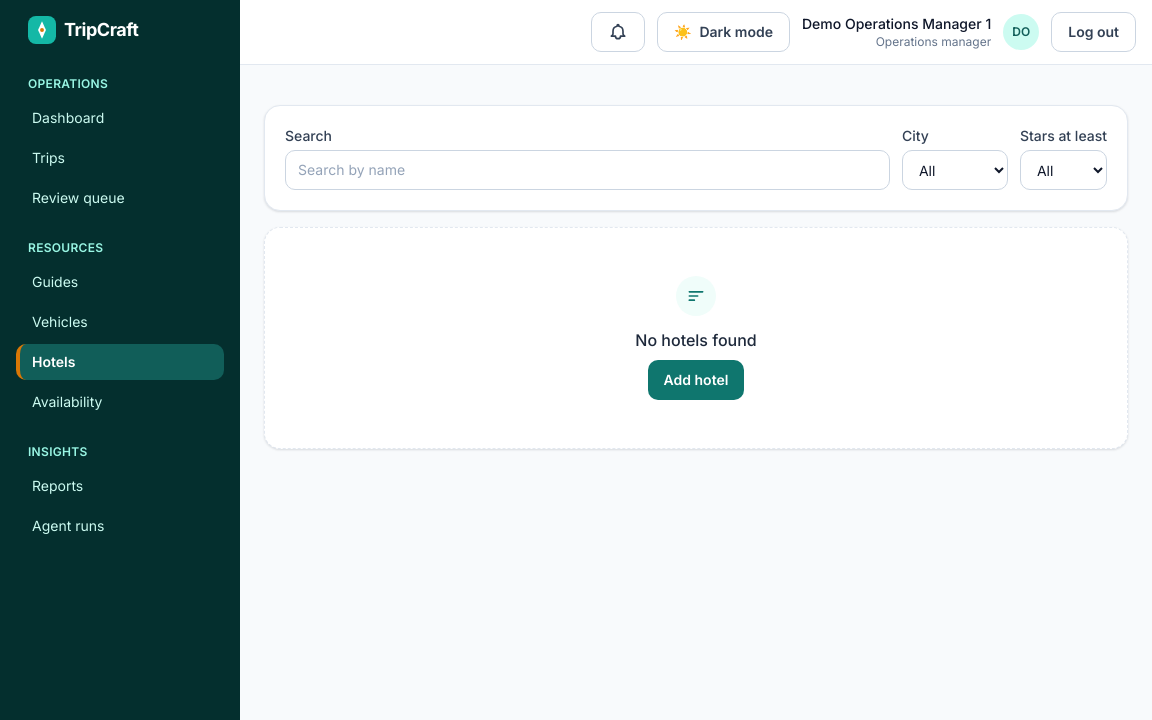
Test: Hotel form with room types › needs at least one room type
Click the button "Add hotel": (696, 380) [648,360,744,400]
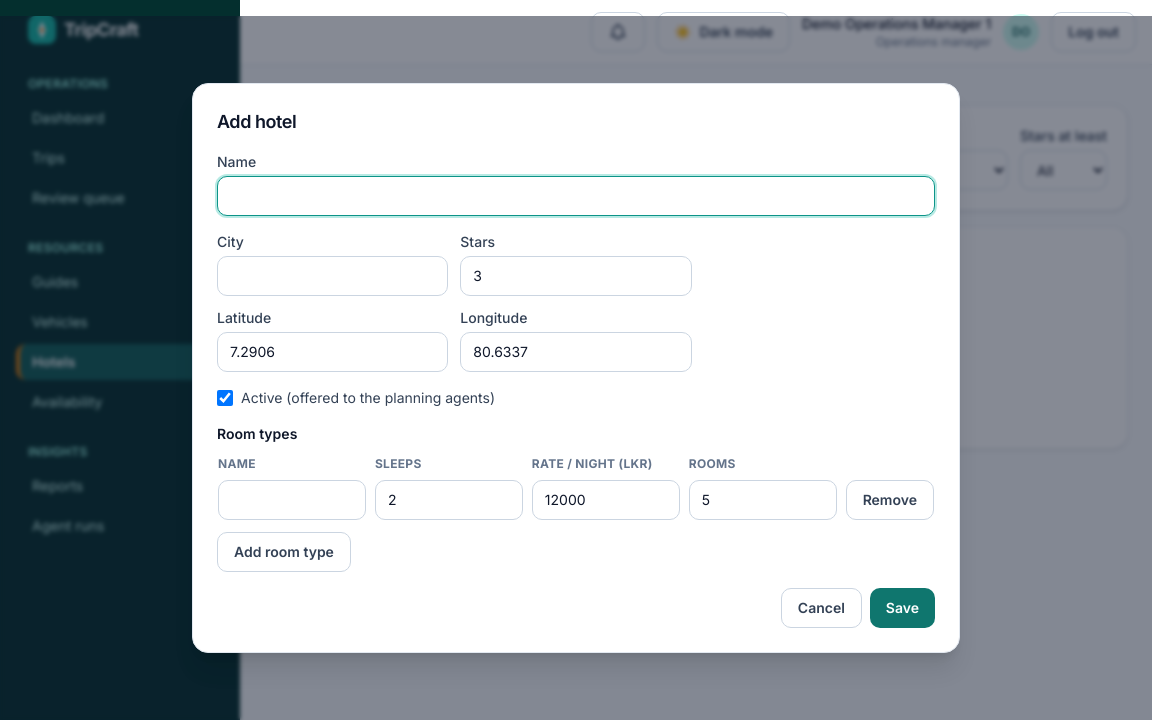
In the field labelled "Name": (576, 196) [217,176,935,216], type "Ella Rock View"
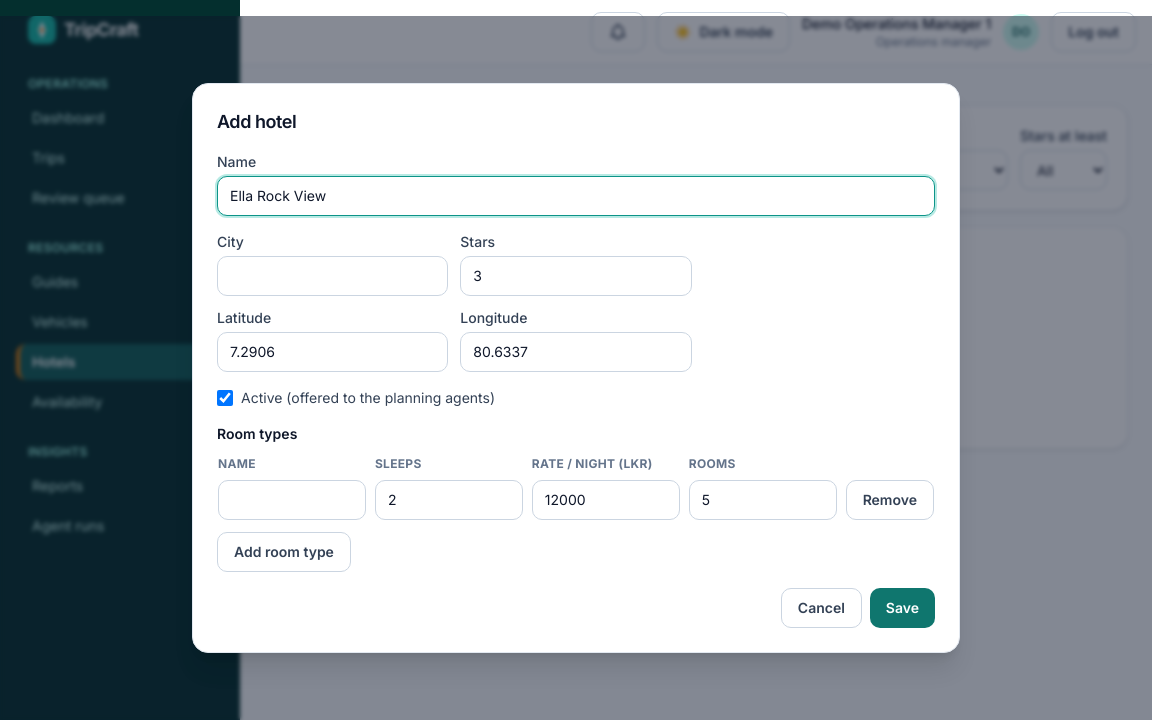
In the field labelled "City": (333, 276) [217,256,448,296], type "Ella"
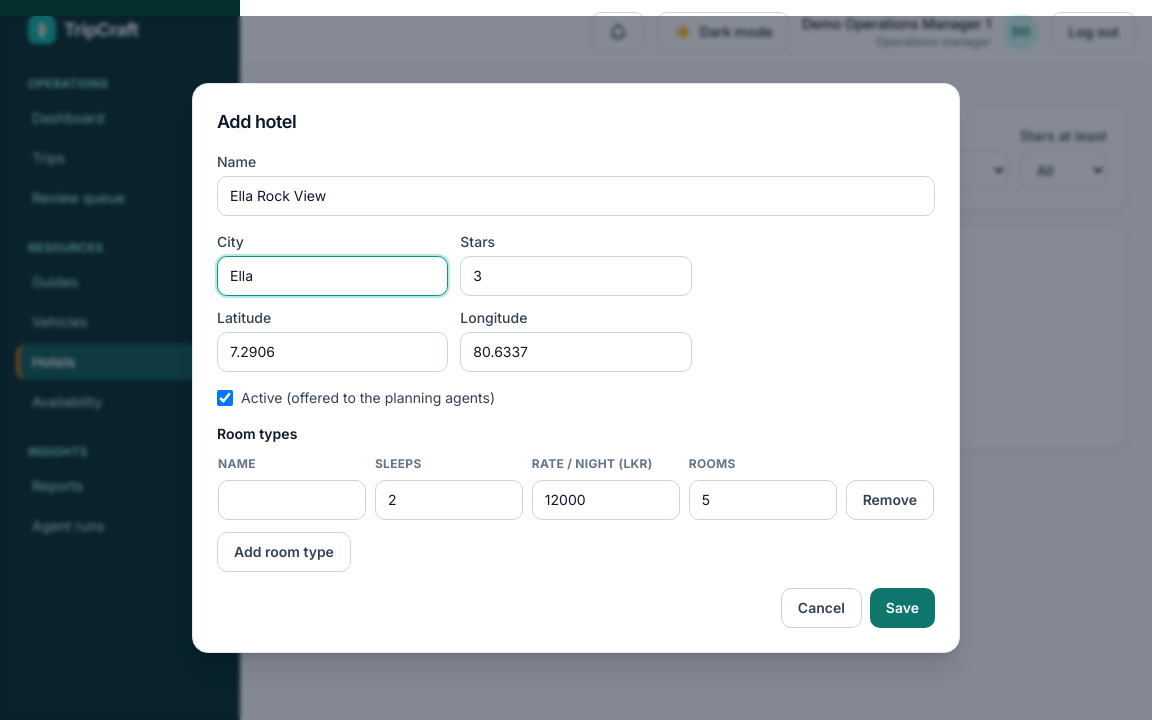
Click the button with aria-label "Remove room type 1": (890, 500) [846,480,934,520]
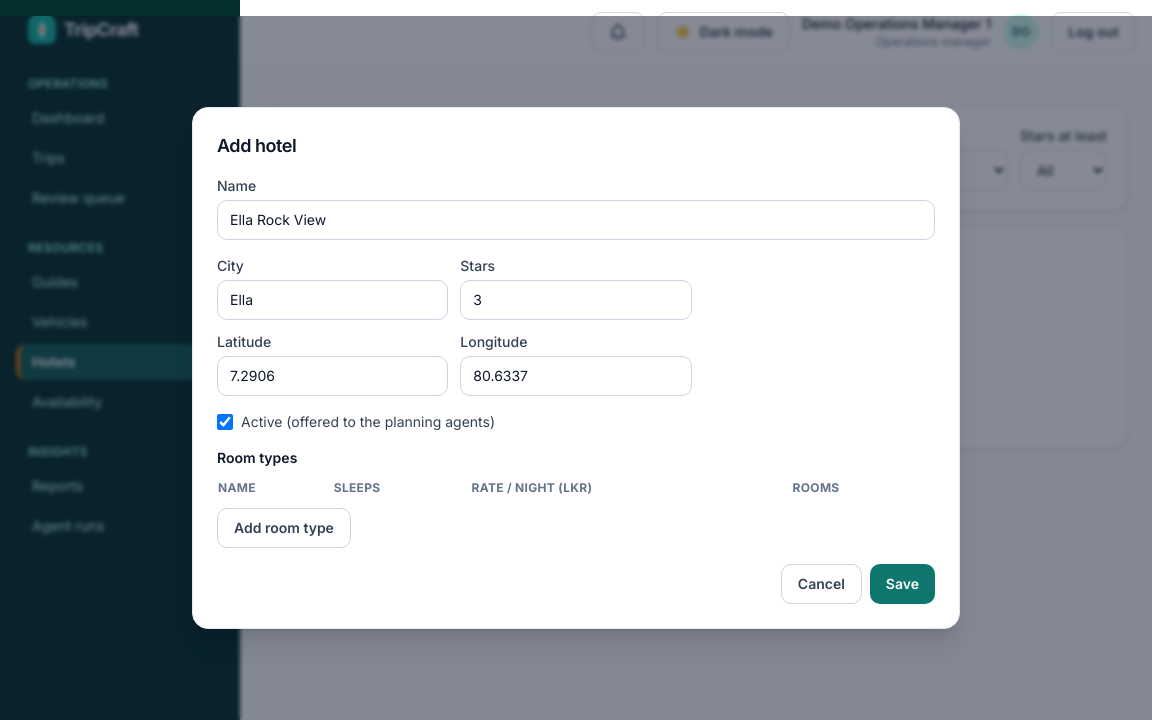
Click the button "Save": (902, 584) [870,564,935,604]
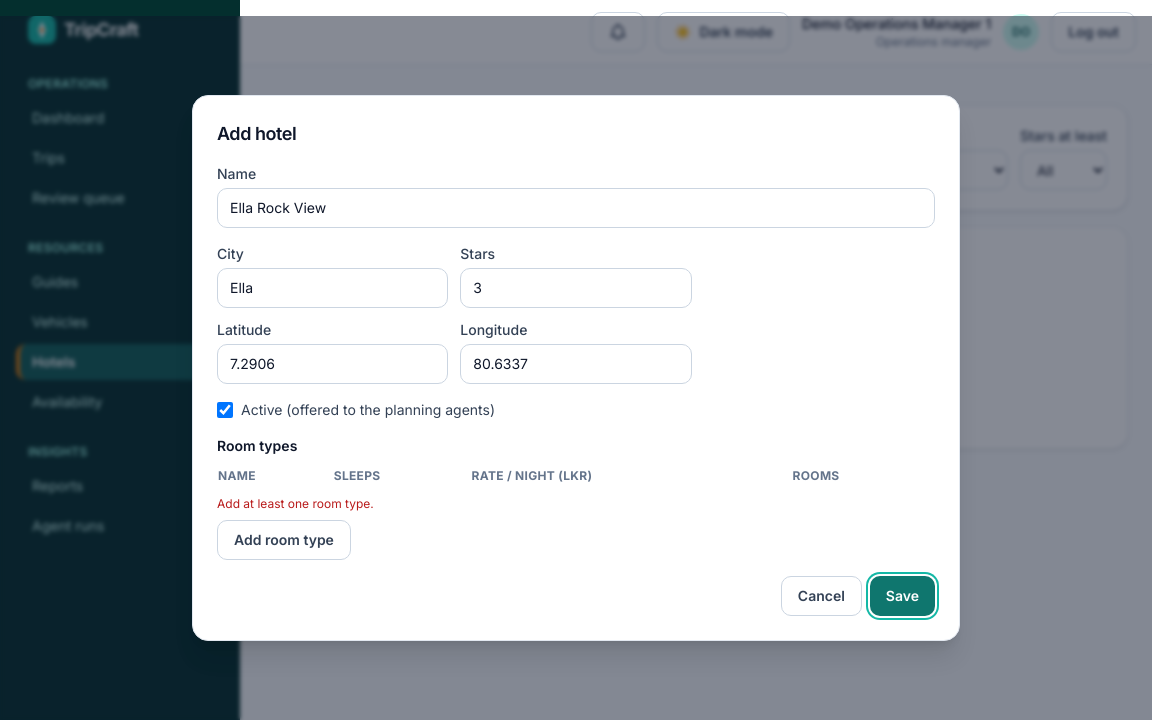
Expected: the text "Add at least one room type." is shown, [217,496,374,511]
